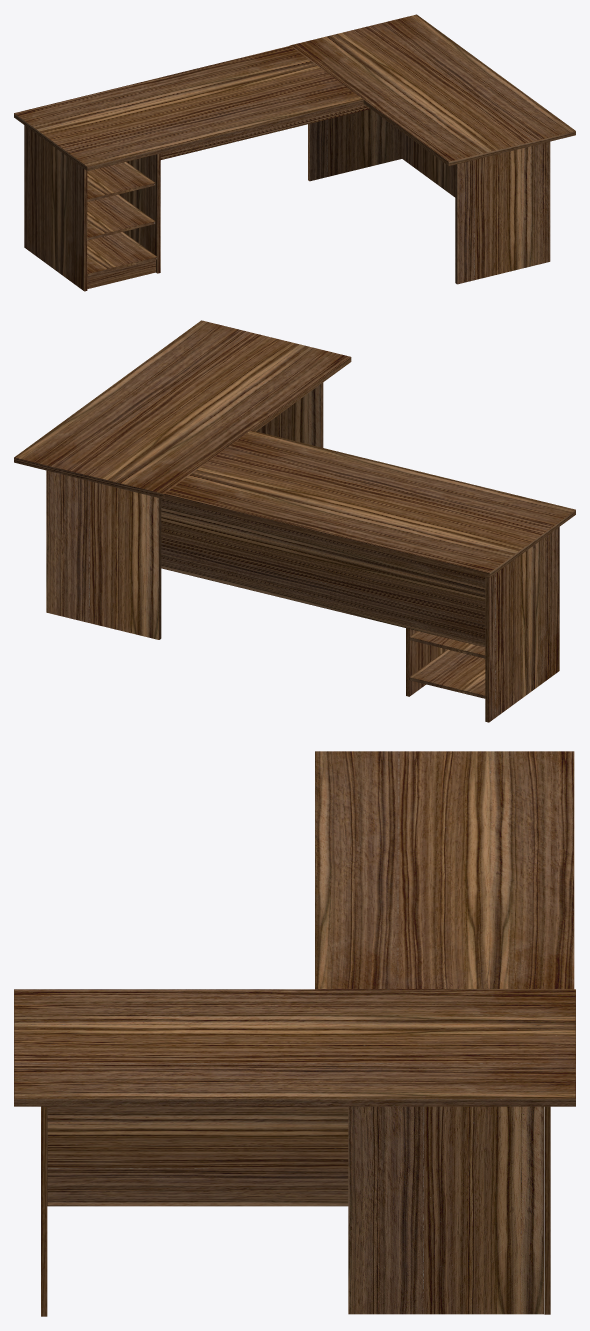
Rendered from Office table.FBX.
3 views of the same model, one above another, from view 1: azimuth 30°, elevation 25°; view 2: azimuth 150°, elevation 25°; view 3: azimuth 270°, elevation 25° (orthographic). The views are drawn at different scales.
Parts seen in each view (by area): view 1: Office table; view 2: Office table; view 3: Office table.
Boxes of the visible parts, box(x1,y1,x2,y2) form: Office table: box(14, 14, 575, 291); Office table: box(14, 320, 575, 722); Office table: box(14, 751, 575, 1316).
Size of the model in its own units: 94.34 by 64.47 by 29.54.
1 material, 1 textured.
